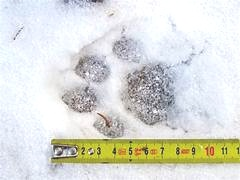rat: (71, 55, 118, 108), (125, 51, 175, 96)
